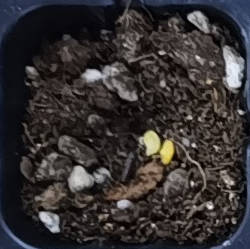pepper seed: (71, 56, 247, 222), (61, 51, 223, 208)
